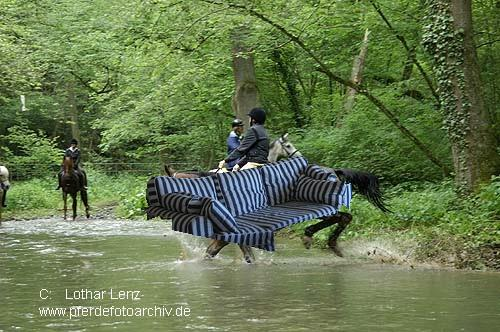tampered: (142, 157, 352, 251)
